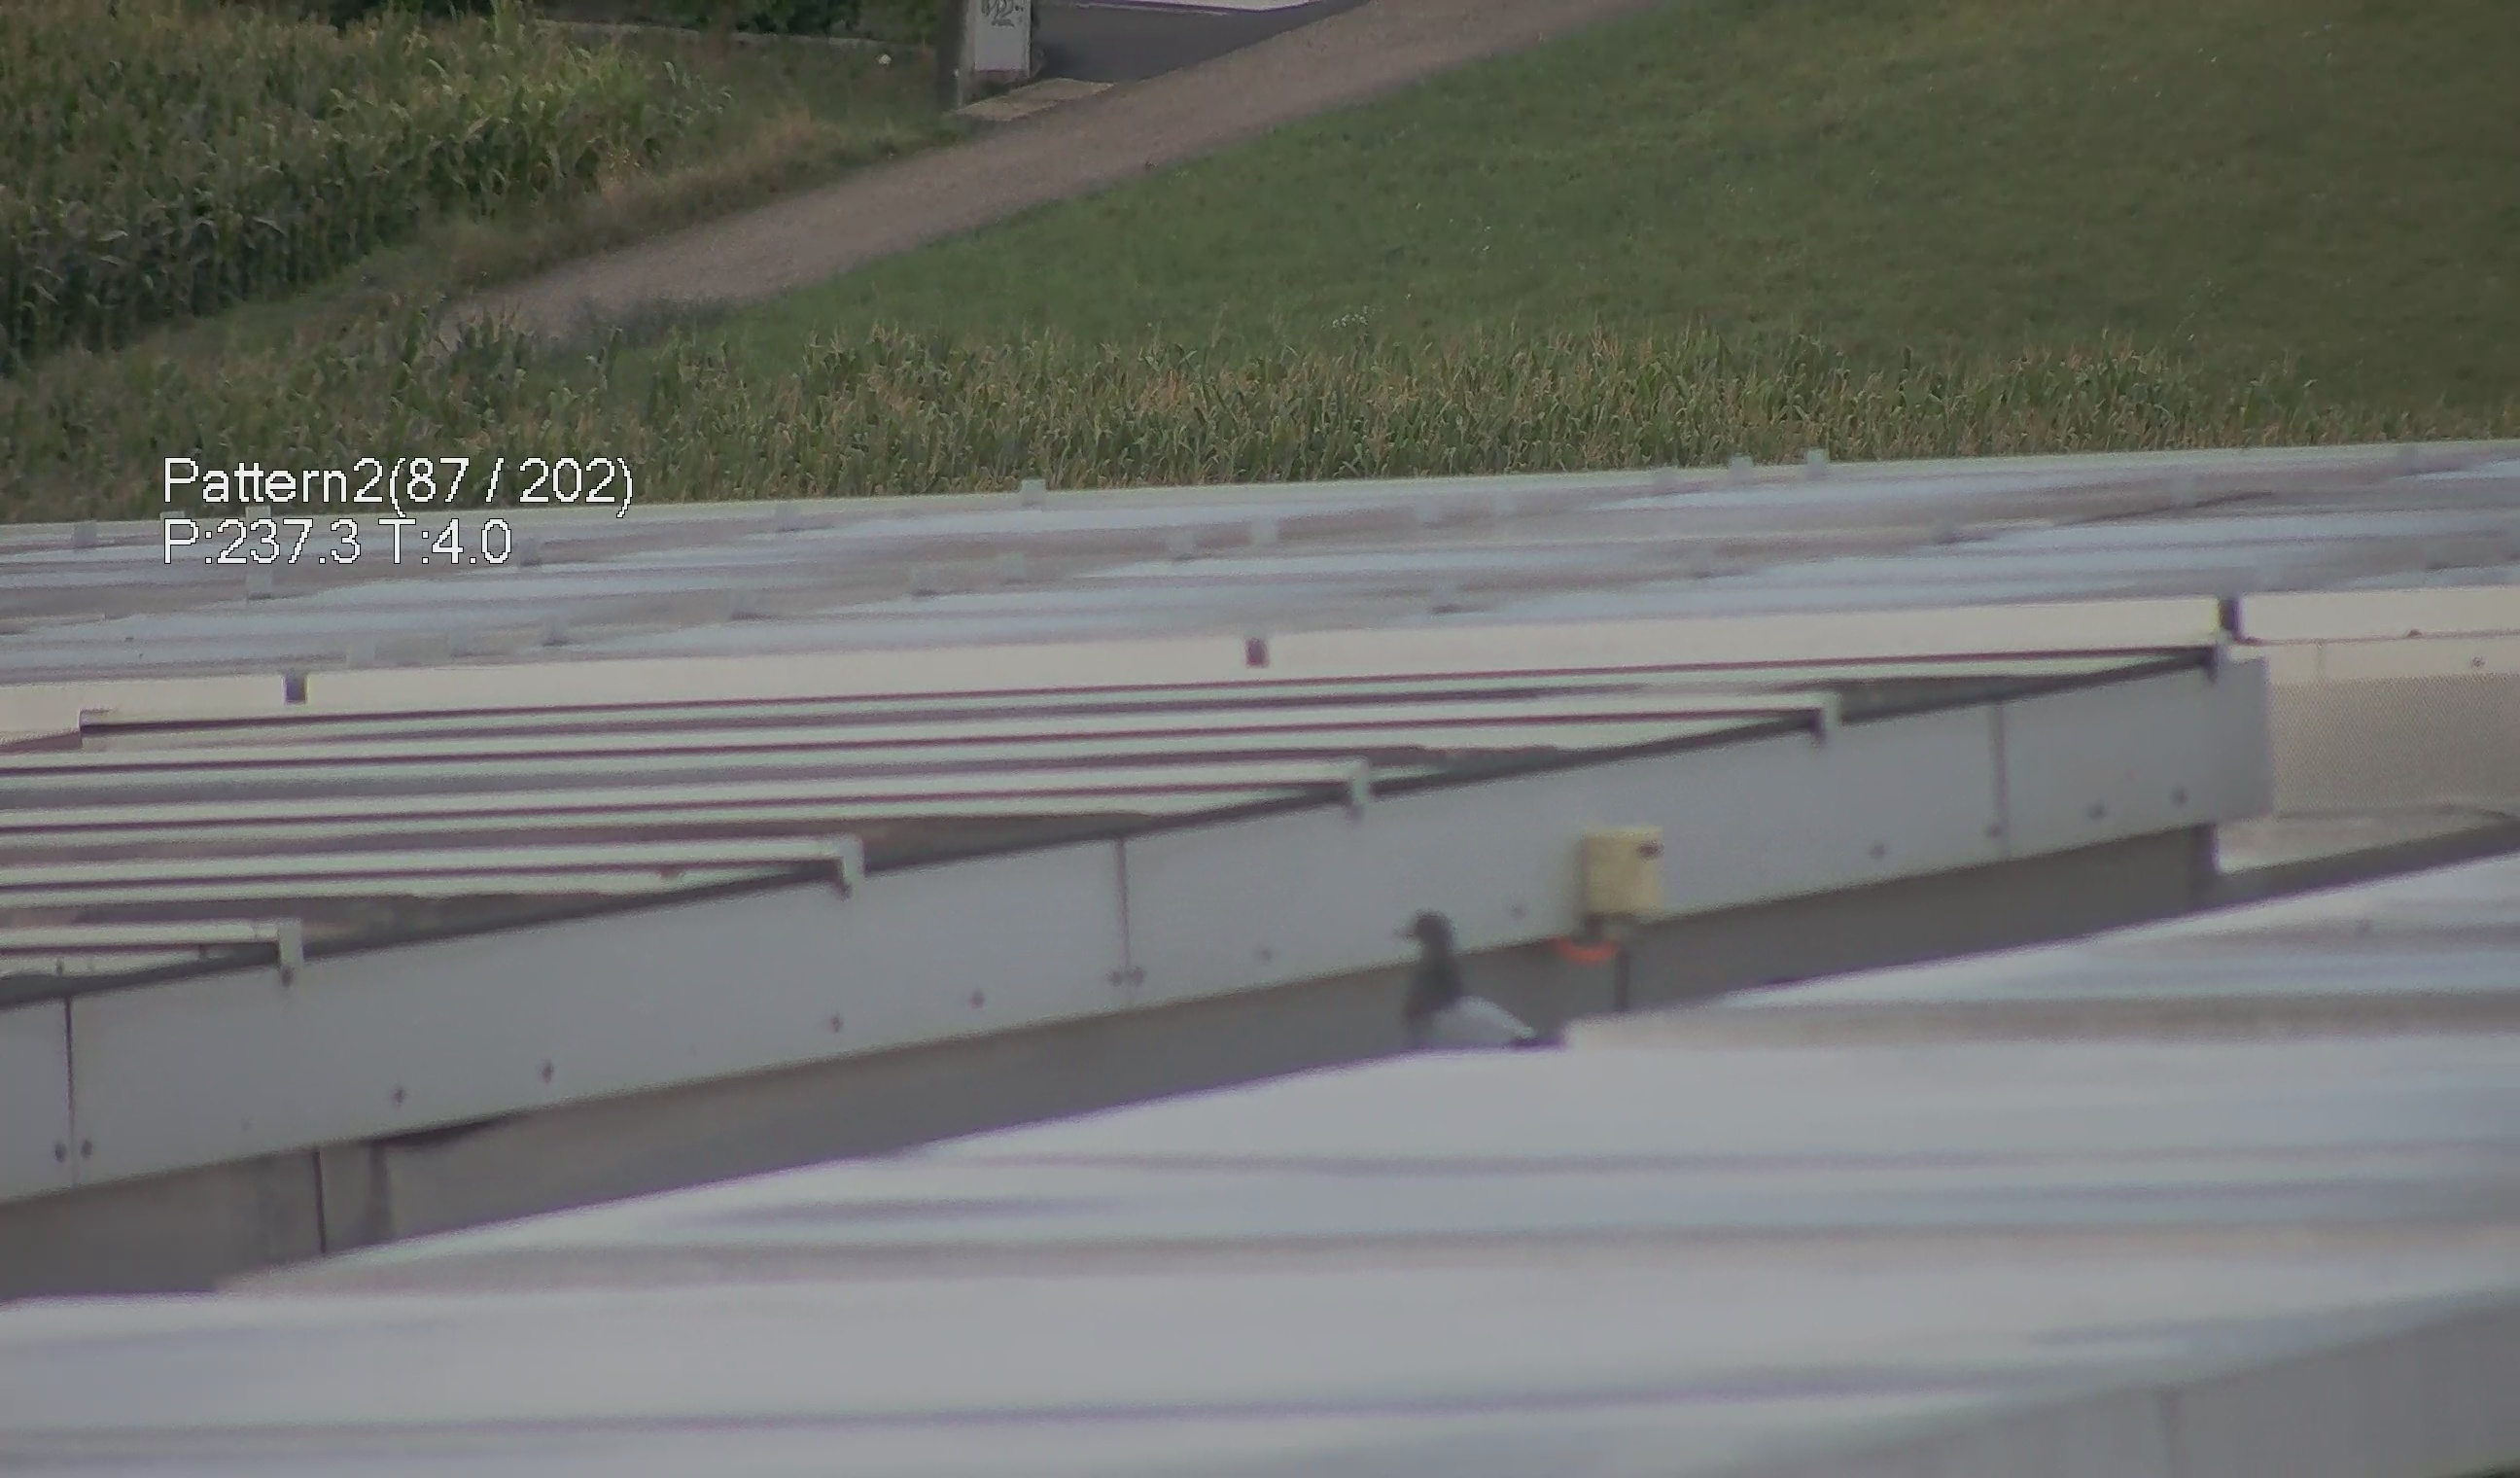Pigeon: (1393, 906, 1555, 1068)
